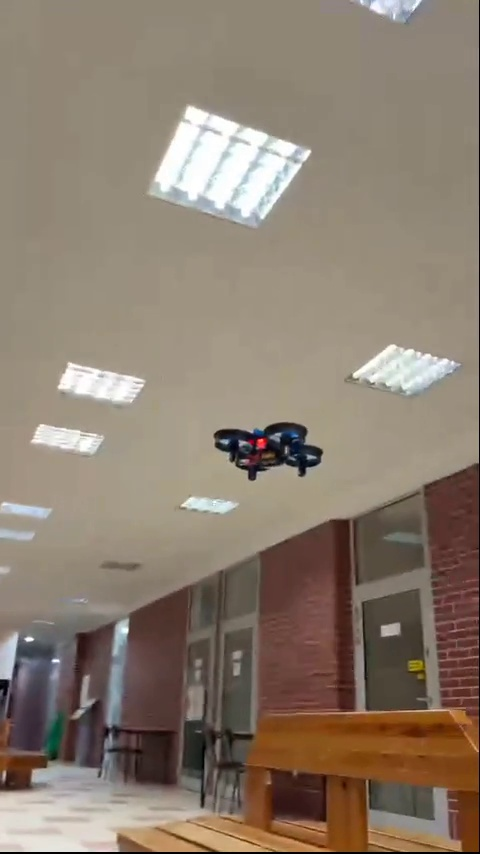drone: (214, 423, 331, 483)
